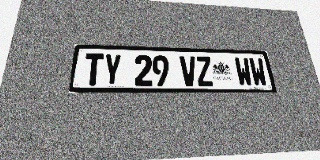2: (135, 54, 152, 86)
9: (152, 55, 170, 86)
T: (83, 53, 104, 86)
V: (179, 56, 198, 86)
W: (248, 58, 268, 86), (234, 57, 253, 86)
Y: (102, 54, 122, 86)
Z: (195, 56, 214, 86)
